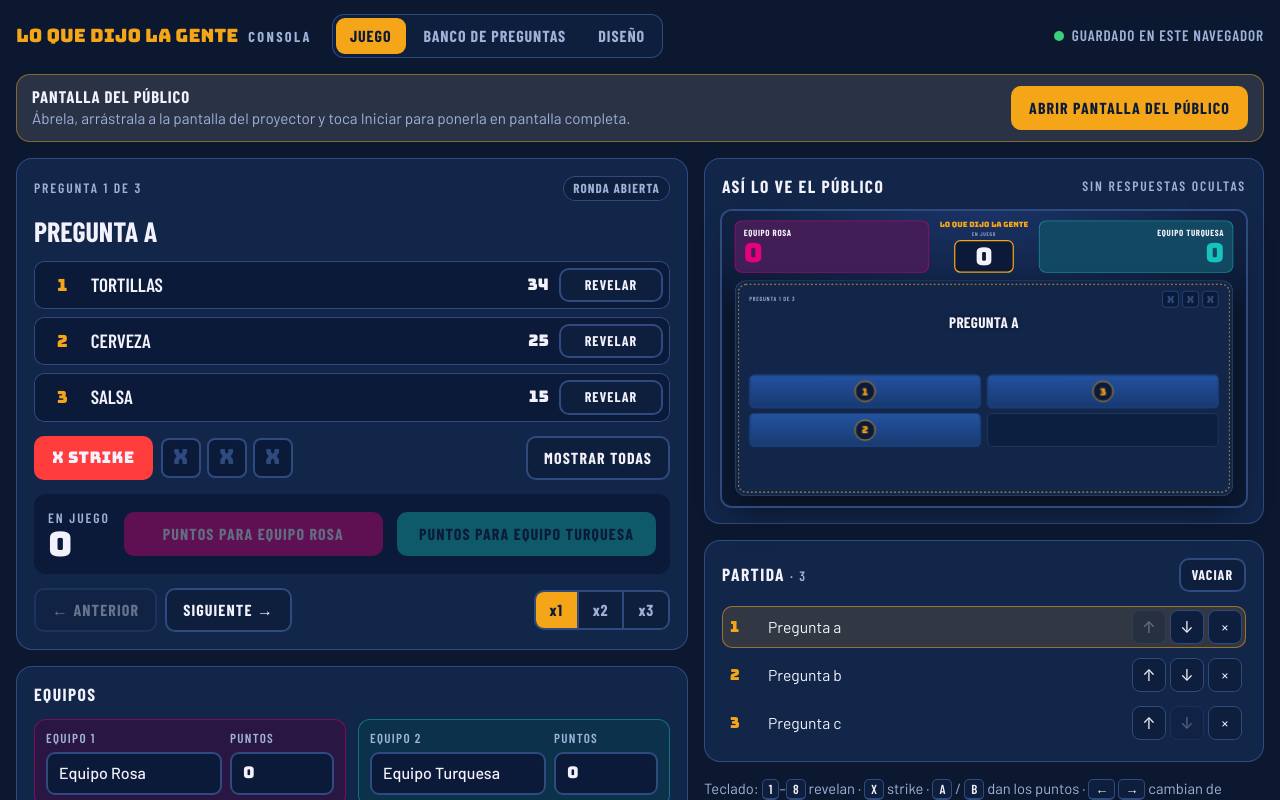
Scenario: Console · conducting a round › 'Mostrar todas' reveals the rest dimmed and without points
Click the button with aria-label "Revelar respuesta 3" at (611, 398), box [559,380,663,415]
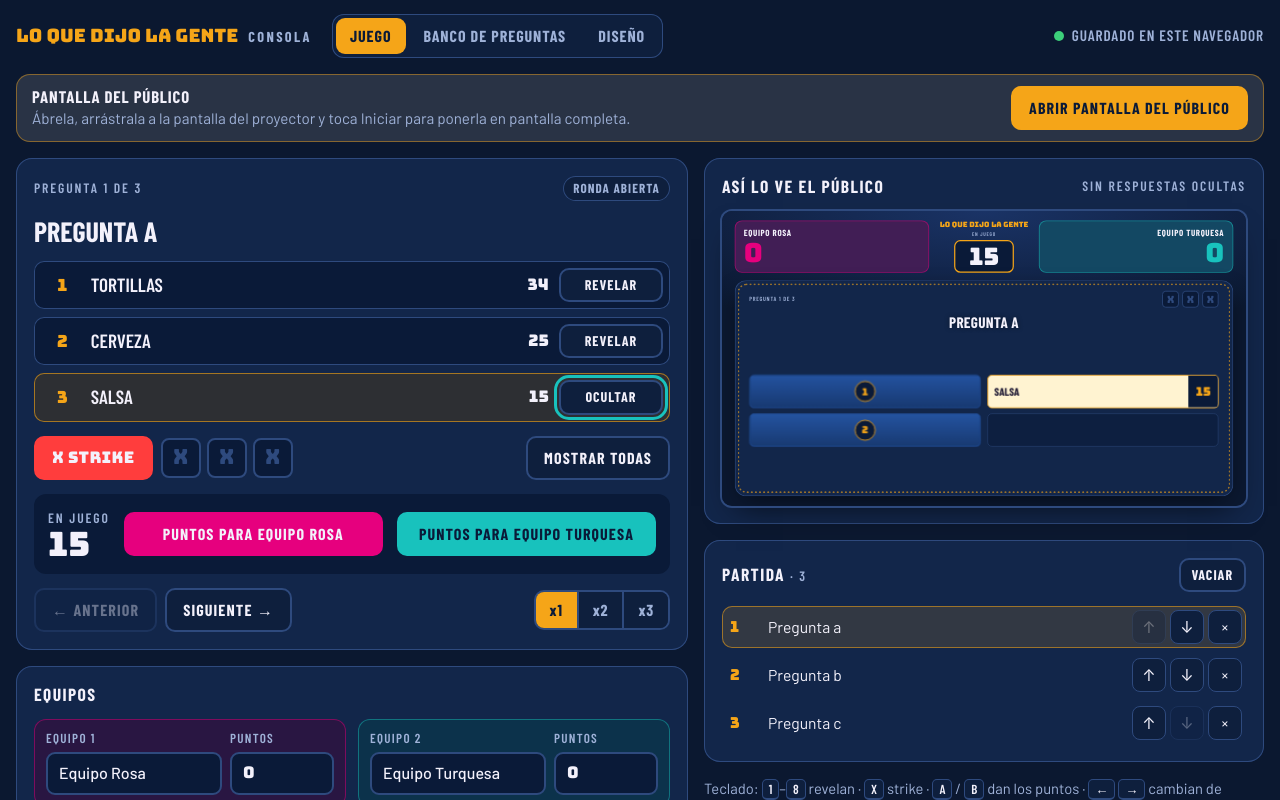
Click the button "Mostrar todas" at (598, 458), box [526,436,670,480]
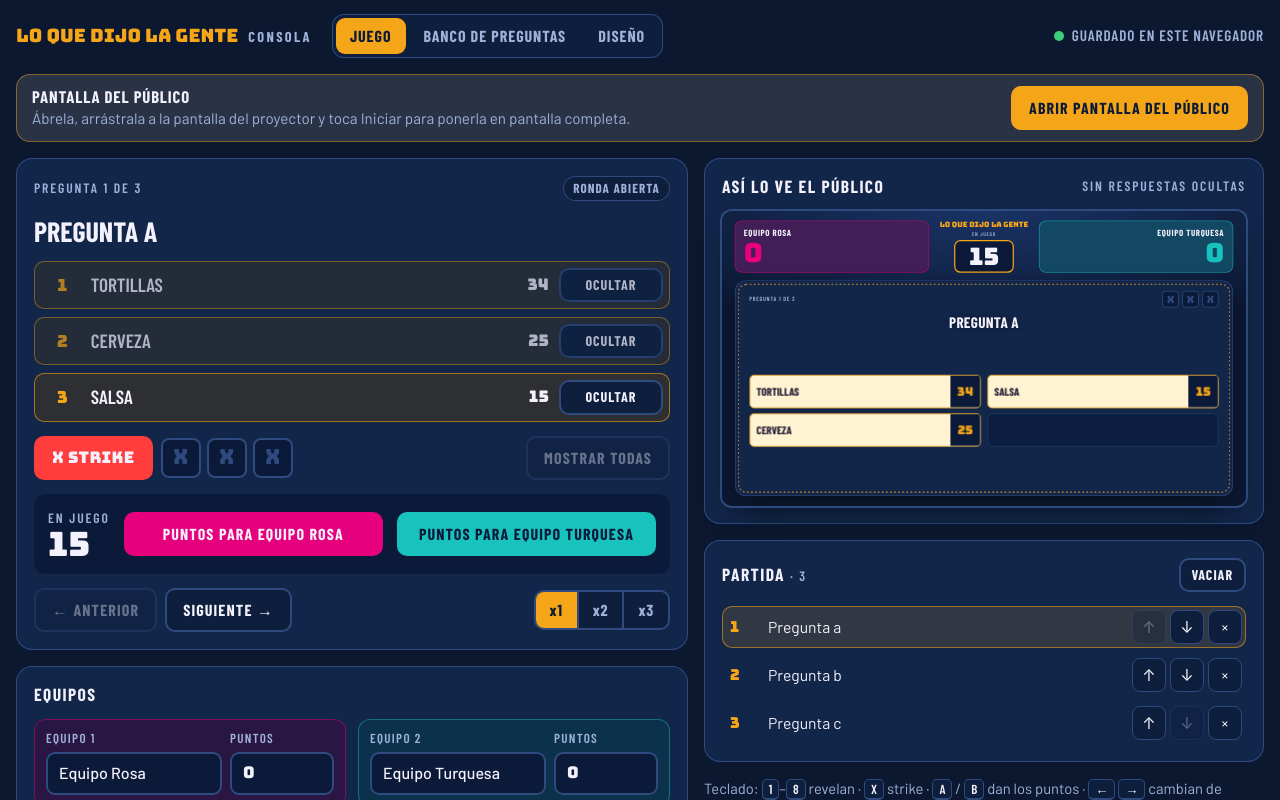
Result: the text with id "hPot" reads "15" at [48,522,90,566]
Result: the button "Mostrar todas" is disabled at [526,436,670,480]
